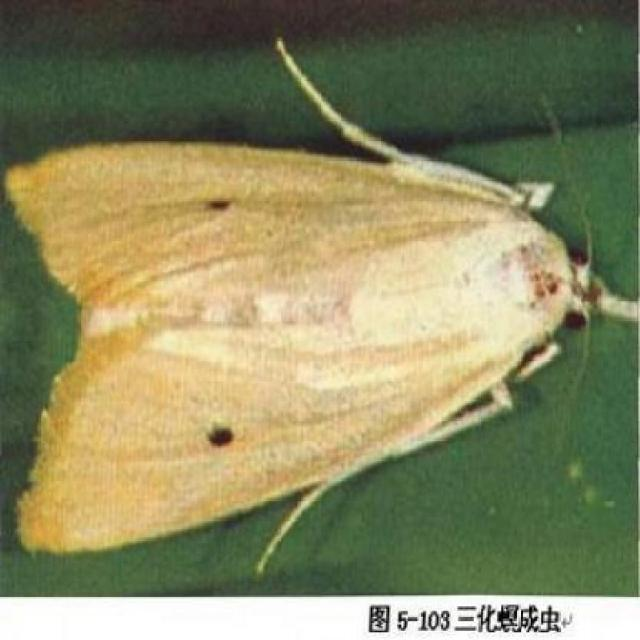stem-borer: (3, 34, 640, 572)
